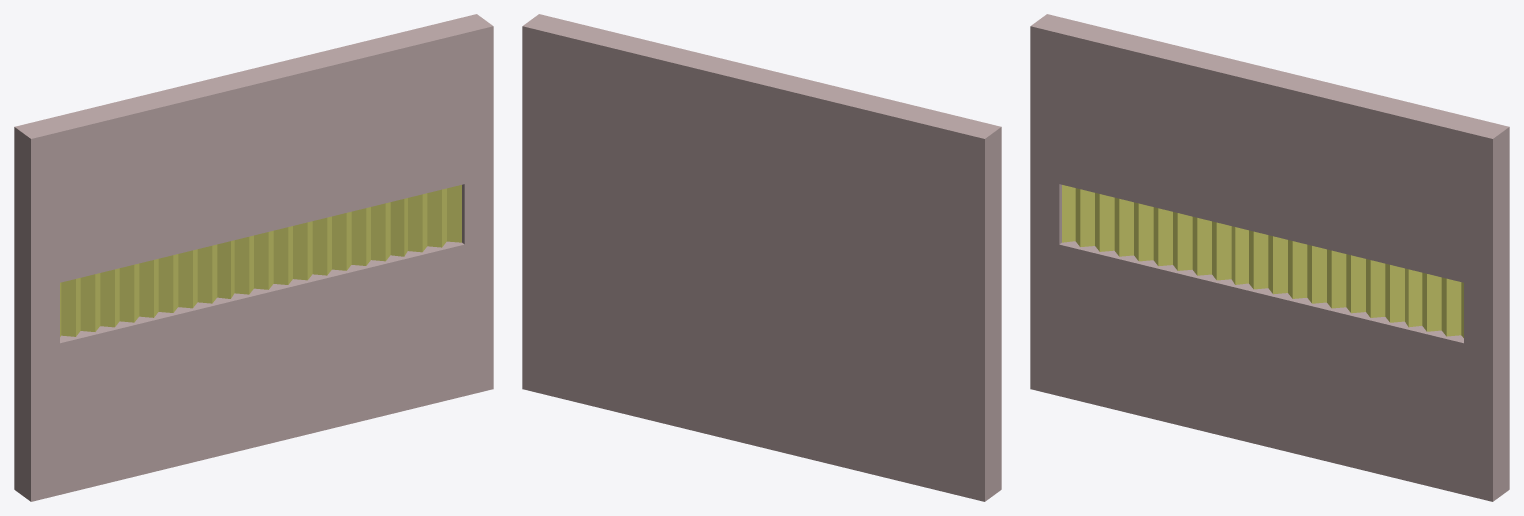
Rendered from BWallL.fbx.
The picture shows the model from 3 angles, left to right: view 1: azimuth 30°, elevation 25°; view 2: azimuth 150°, elevation 25°; view 3: azimuth 330°, elevation 25°; orthographic projection.
Parts seen in each view (by area): view 1: BWallL; view 2: BWallL; view 3: BWallL.
Boxes of the visible parts, x1,y1,x2,y2 form: BWallL: (14, 14, 493, 501); BWallL: (522, 14, 1001, 501); BWallL: (1030, 14, 1509, 501).
Bounding box in the file's own units: 800 × 600 × 50.
